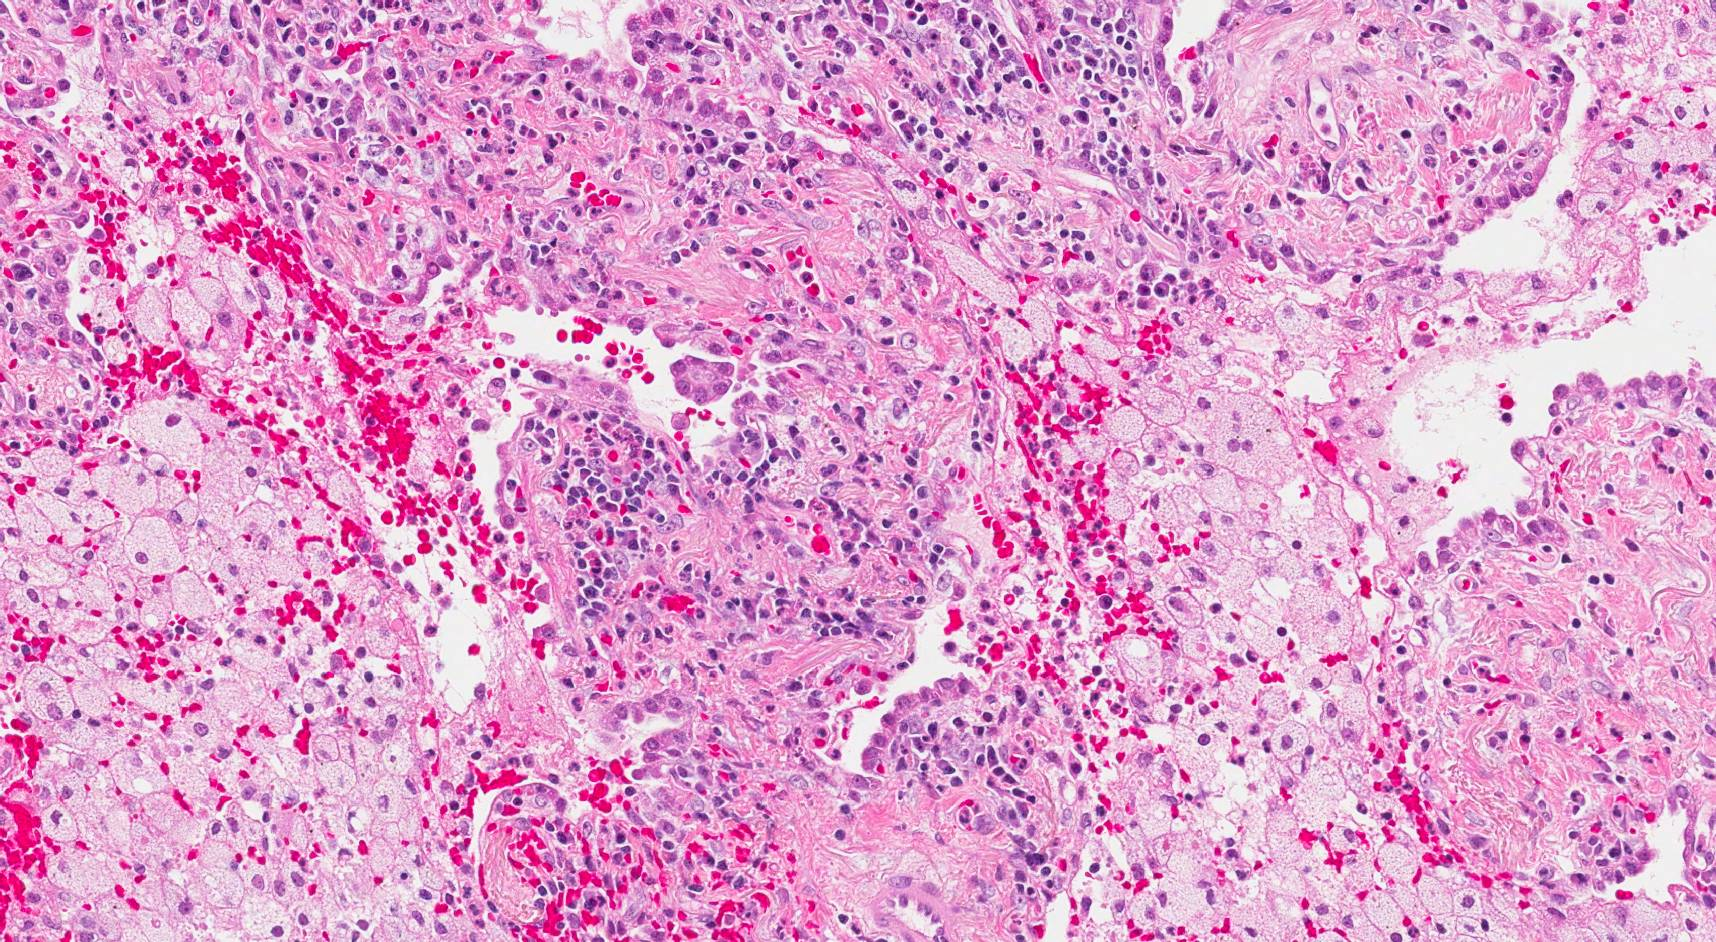stas: (671, 352, 739, 405)
